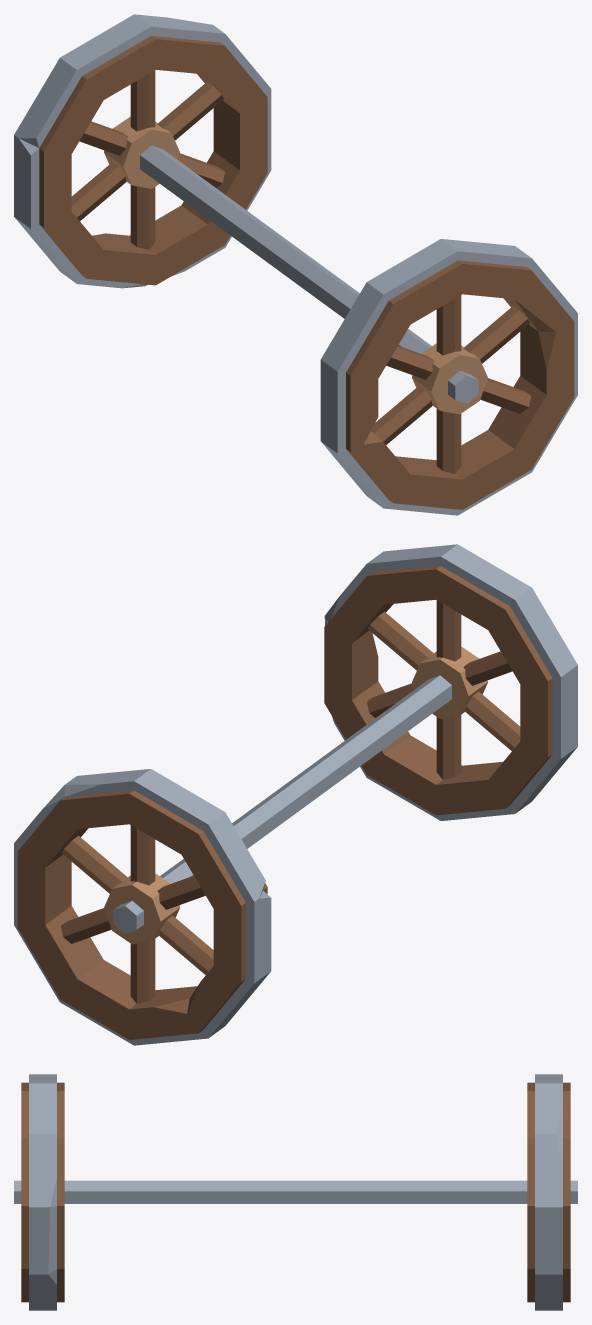
File: SM_Veh_Cart_01_Wheels_02.fbx
The picture shows the model from 3 angles, top to bottom: view 1: azimuth 30°, elevation 25°; view 2: azimuth 150°, elevation 25°; view 3: azimuth 270°, elevation 25°; orthographic projection. The views are drawn at different scales.
Parts seen in each view (by area): view 1: SM_Veh_Cart_01_Wheels_02; view 2: SM_Veh_Cart_01_Wheels_02; view 3: SM_Veh_Cart_01_Wheels_02.
Boxes of the visible parts, <box> form: SM_Veh_Cart_01_Wheels_02: <box>14,14,577,515</box>; SM_Veh_Cart_01_Wheels_02: <box>14,544,577,1045</box>; SM_Veh_Cart_01_Wheels_02: <box>14,1074,577,1310</box>.
Bounding box in the file's own units: 54.99 × 135 × 57.82.
1 material, 1 textured.
